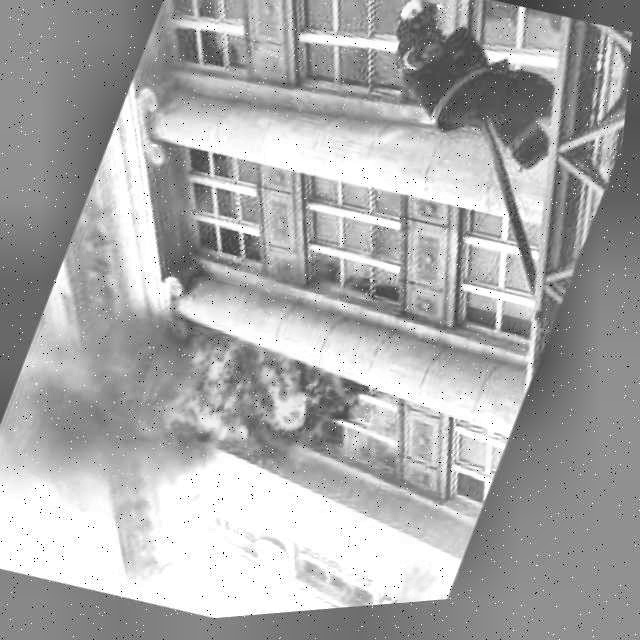Fire: (142, 302, 383, 494)
Smoke: (0, 278, 256, 564)
